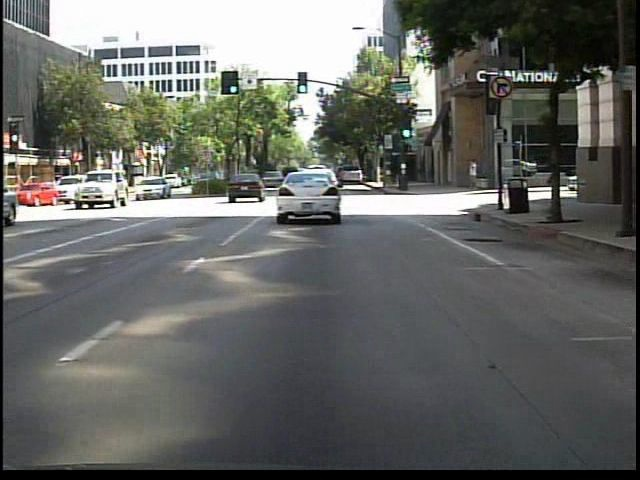person: (465, 154, 481, 194)
